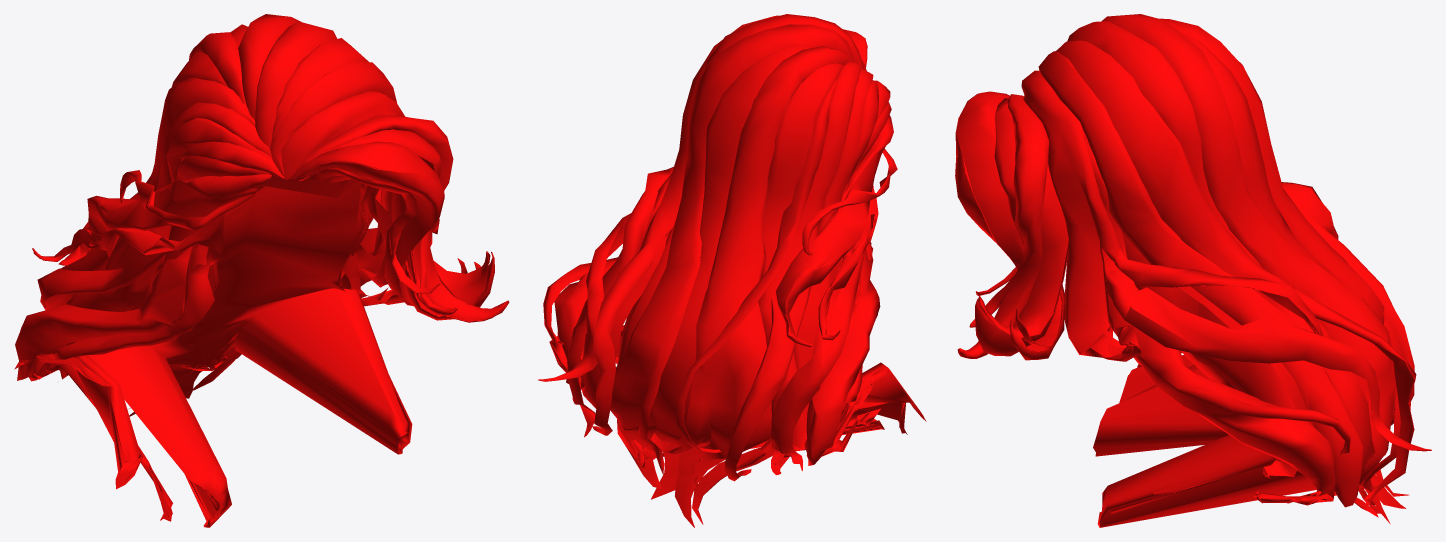
File: culturalibre_hair_17_M.glb
The picture shows the model from 3 angles, left to right: view 1: azimuth 30°, elevation 25°; view 2: azimuth 150°, elevation 25°; view 3: azimuth 270°, elevation 25°; orthographic projection. The views are drawn at different scales.
Bounding box in the file's own units: 0.4056 × 0.4841 × 0.4231.
1 material, 1 textured.
